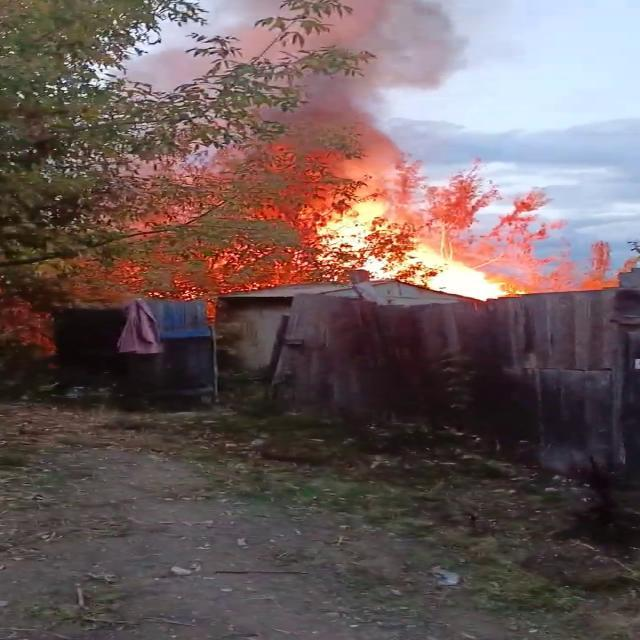Fire: (306, 194, 521, 300)
Smoke: (120, 0, 500, 172)
